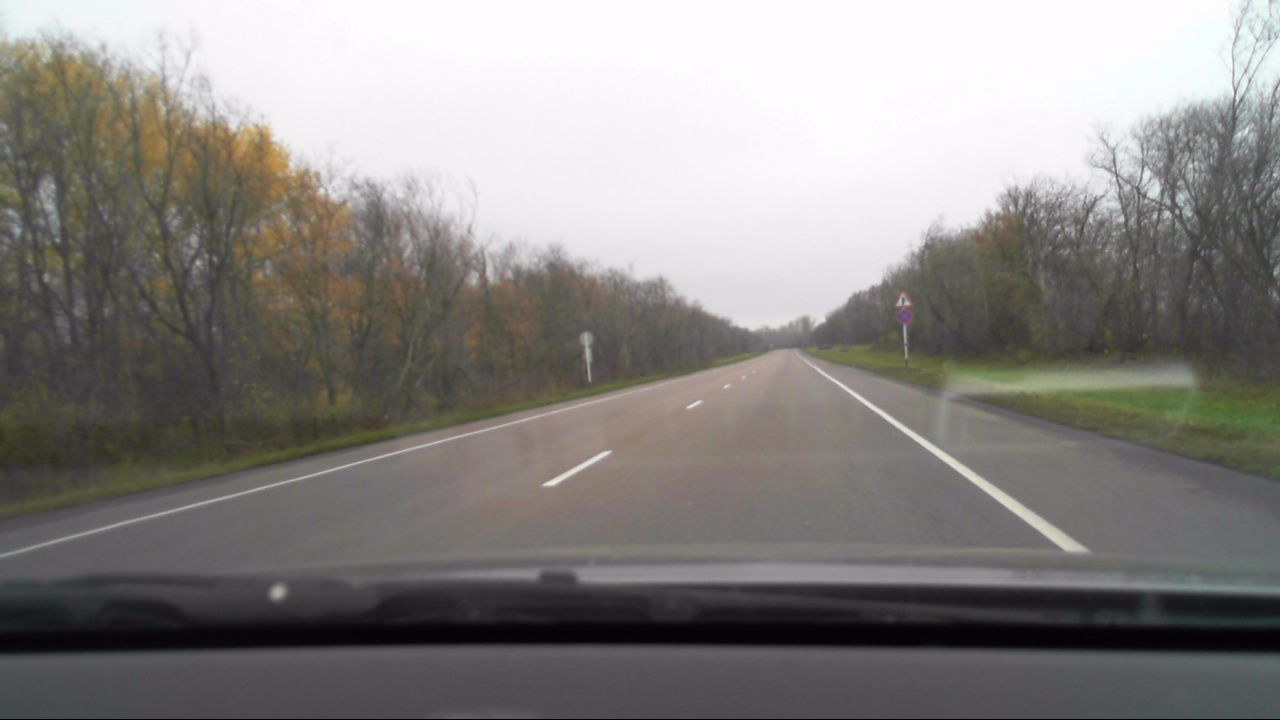No Parking: (894, 307, 914, 324)
